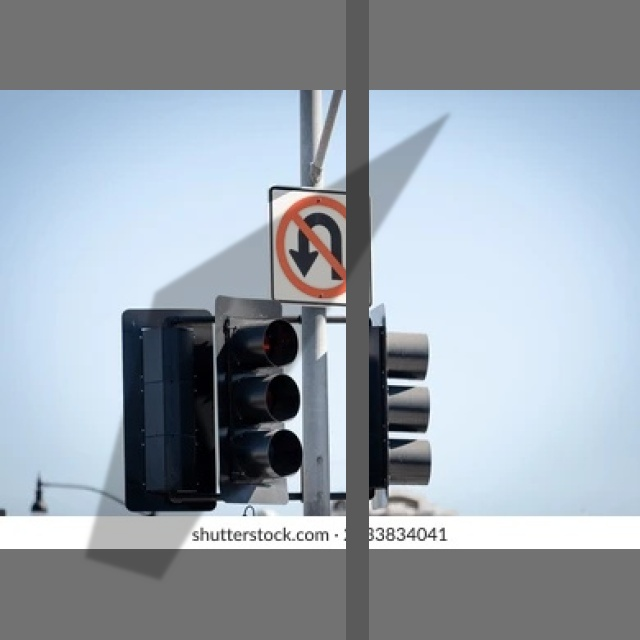U_Turn_Prohibited: (272, 188, 377, 303)
